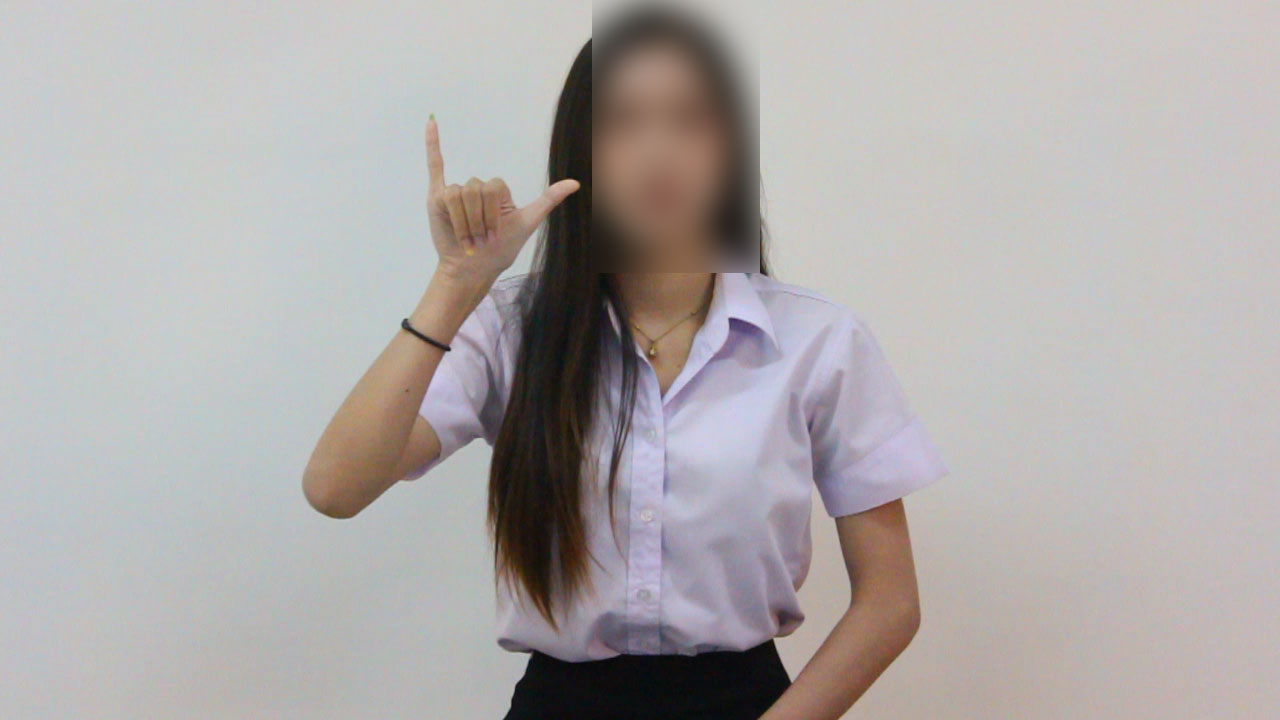yor: (399, 112, 584, 296)
